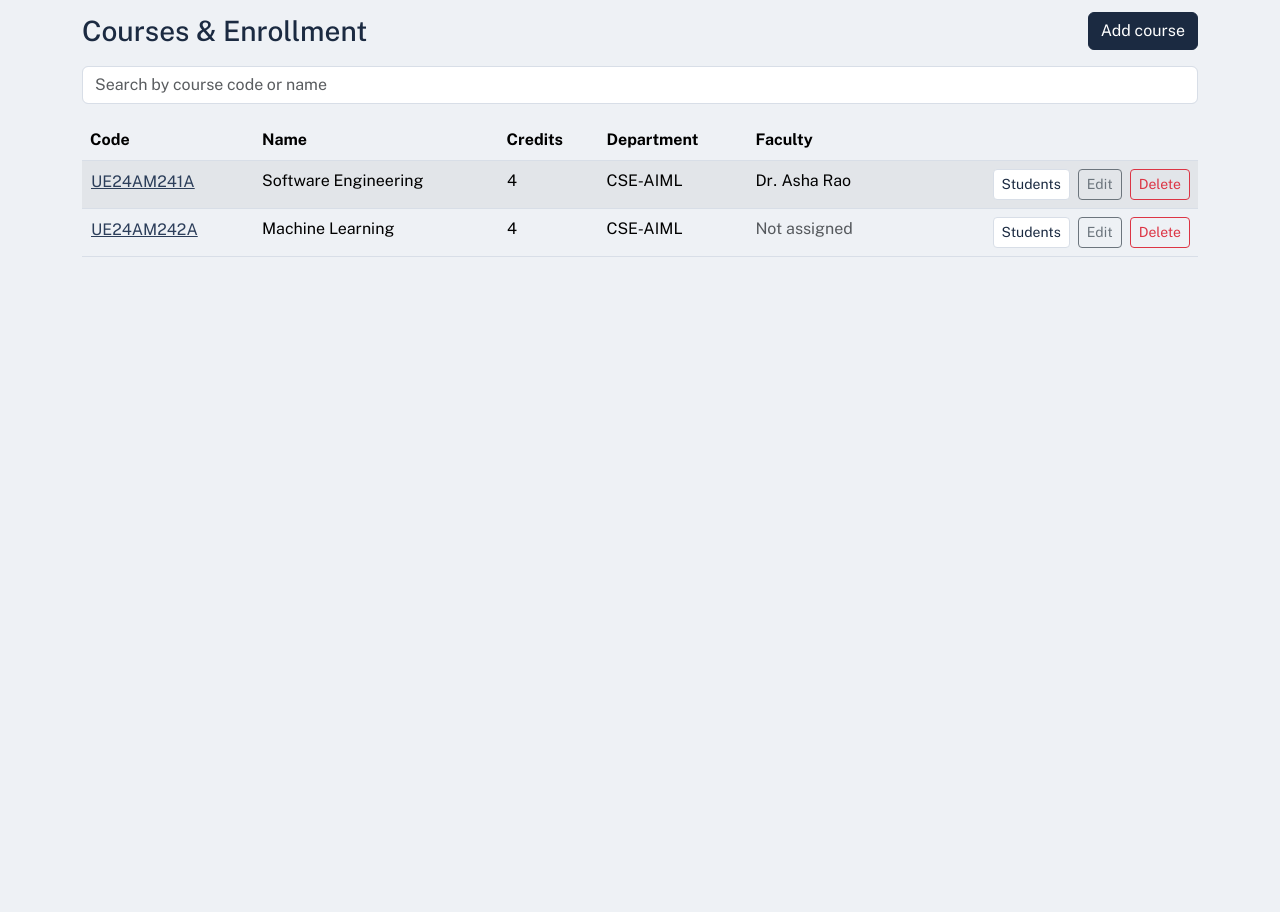
Test case: Enrollment panel (issue #12) › TC-CRS-03: enrolls the selected students and refreshes the roster
This screenshot has width=1280, height=912.
Click the button with aria-label "Students in UE24AM241A". click: {"x": 1031, "y": 184}
box: [992,169,1070,200]
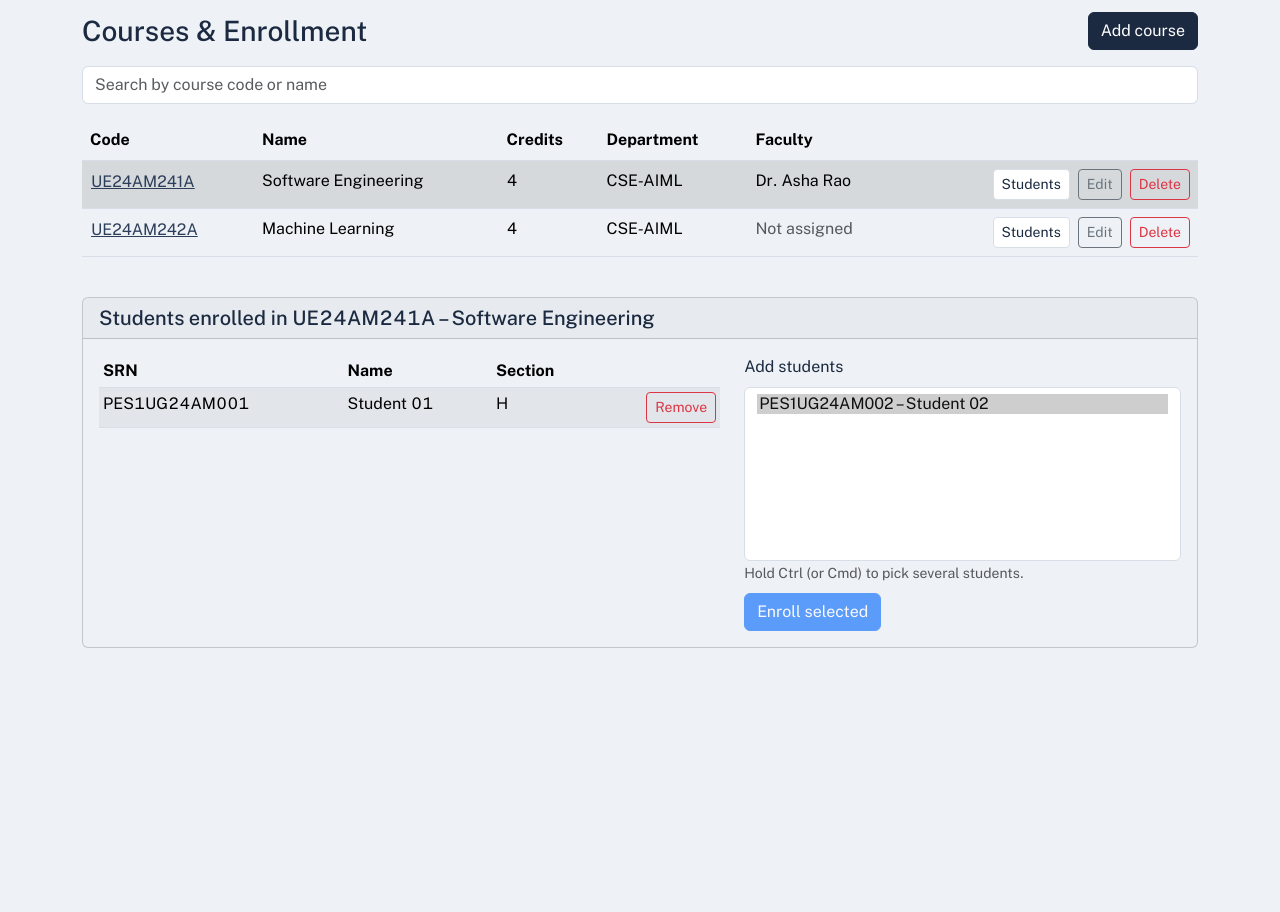
Check: the button with aria-label "Remove PES1UG24AM001" is shown, box [646,392,716,423]
Select "PES1UG24AM002 – Student 02" in the dropdown labelled "Add students". click: {"x": 963, "y": 474}
box: [744,387,1181,561]
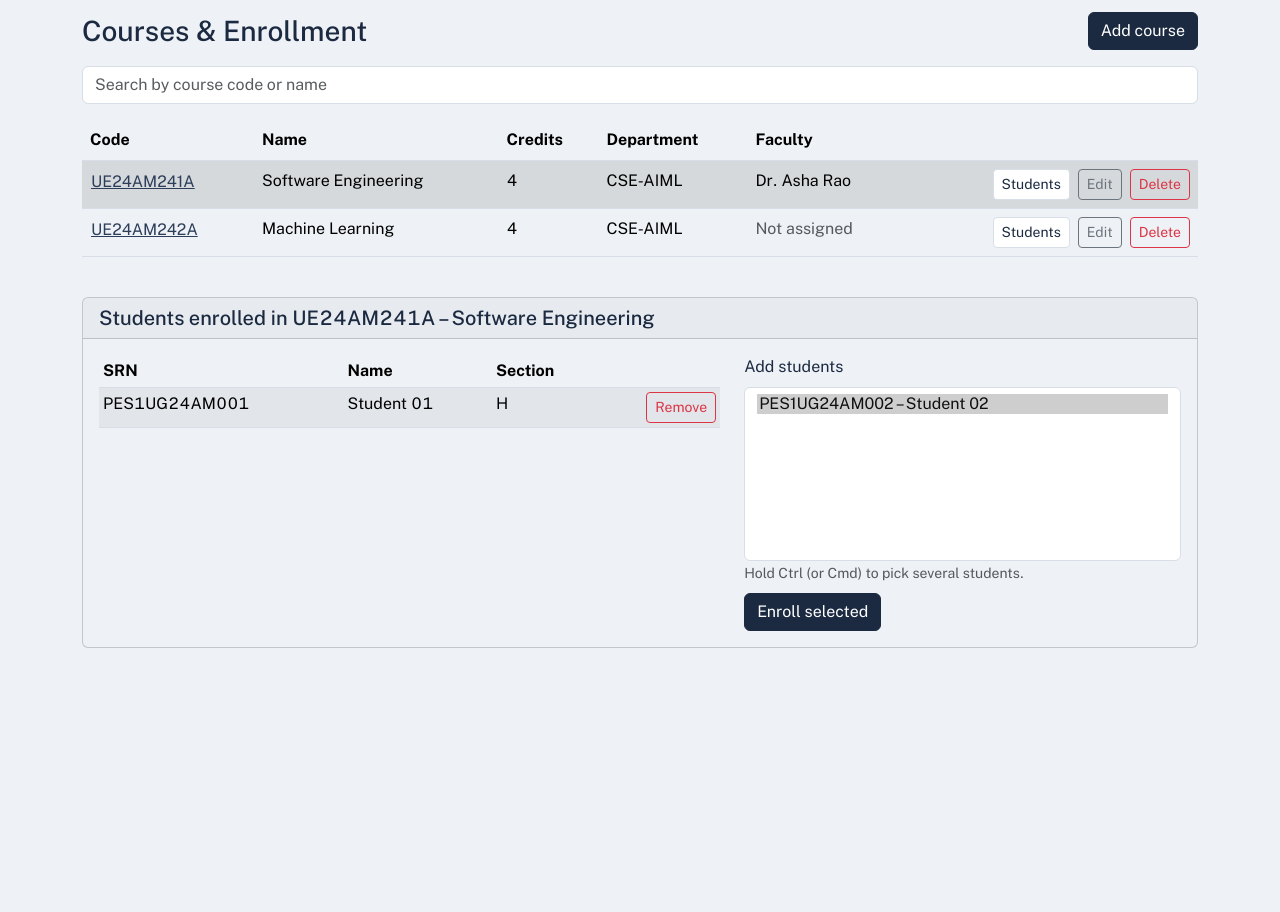
Click the button "Enroll selected". click: {"x": 813, "y": 612}
box: [744,593,881,631]
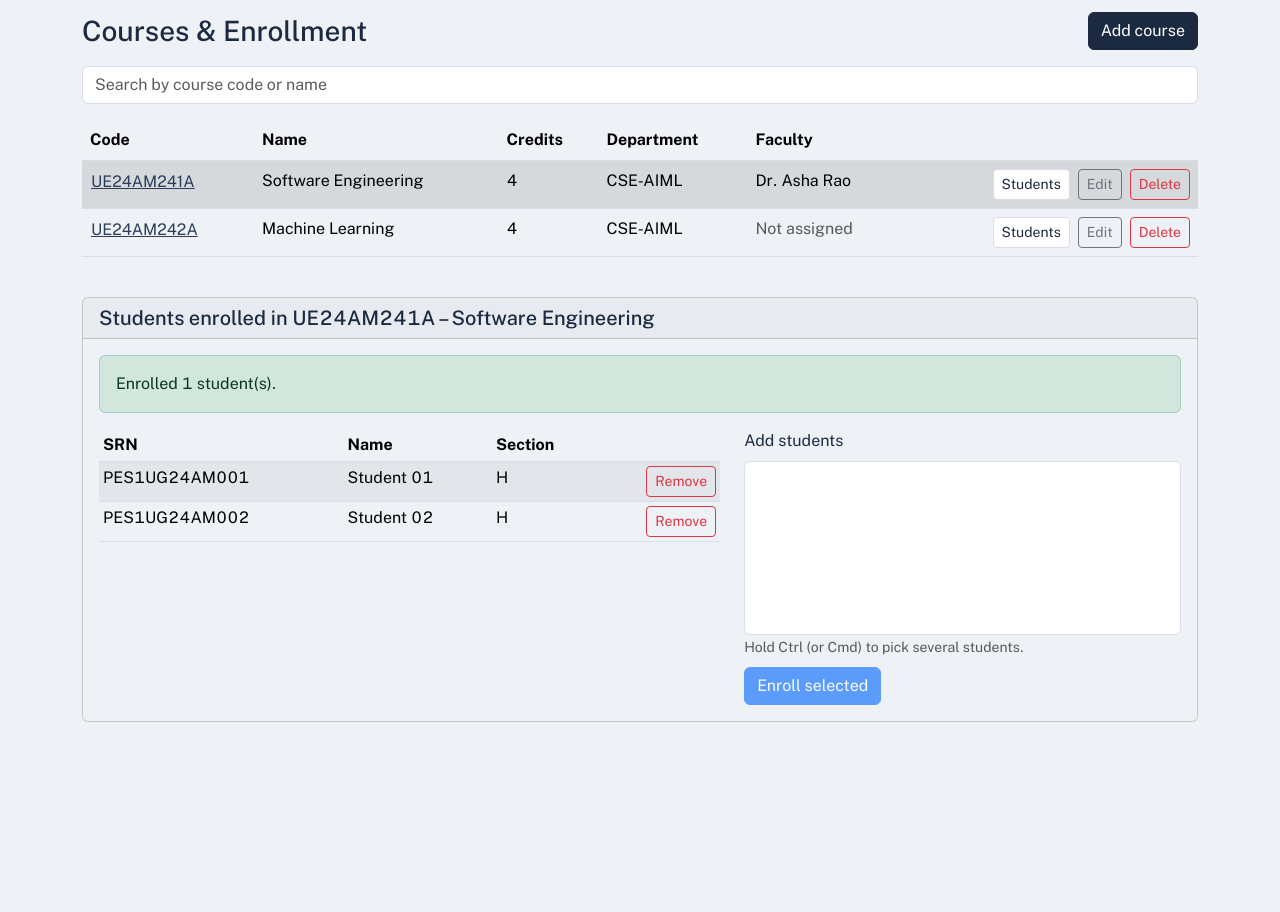
Check: the text "Enrolled 1 student(s)." is shown, box [99,355,1181,413]
Check: the button with aria-label "Remove PES1UG24AM002" is shown, box [646,506,716,537]
